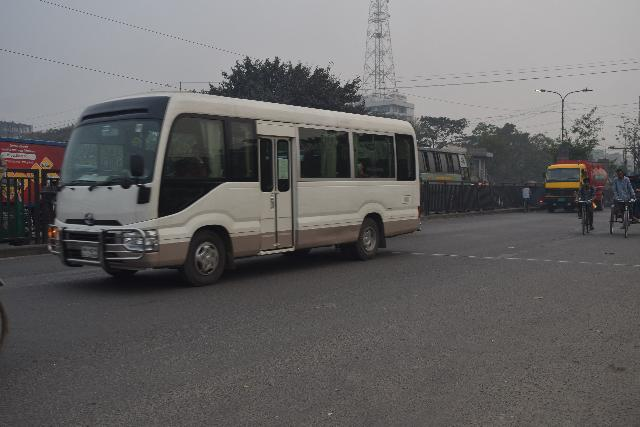bus: (45, 84, 429, 282), (420, 131, 478, 197)
truck: (537, 145, 614, 221)
